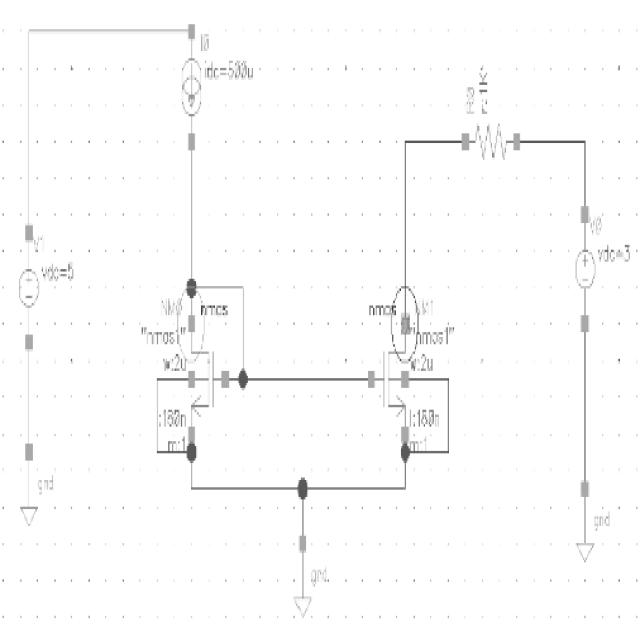idc: (180, 23, 208, 149)
nmos: (365, 298, 411, 442), (187, 298, 233, 440)
res: (459, 112, 526, 176)
vdc: (564, 209, 604, 339), (16, 225, 43, 356)
